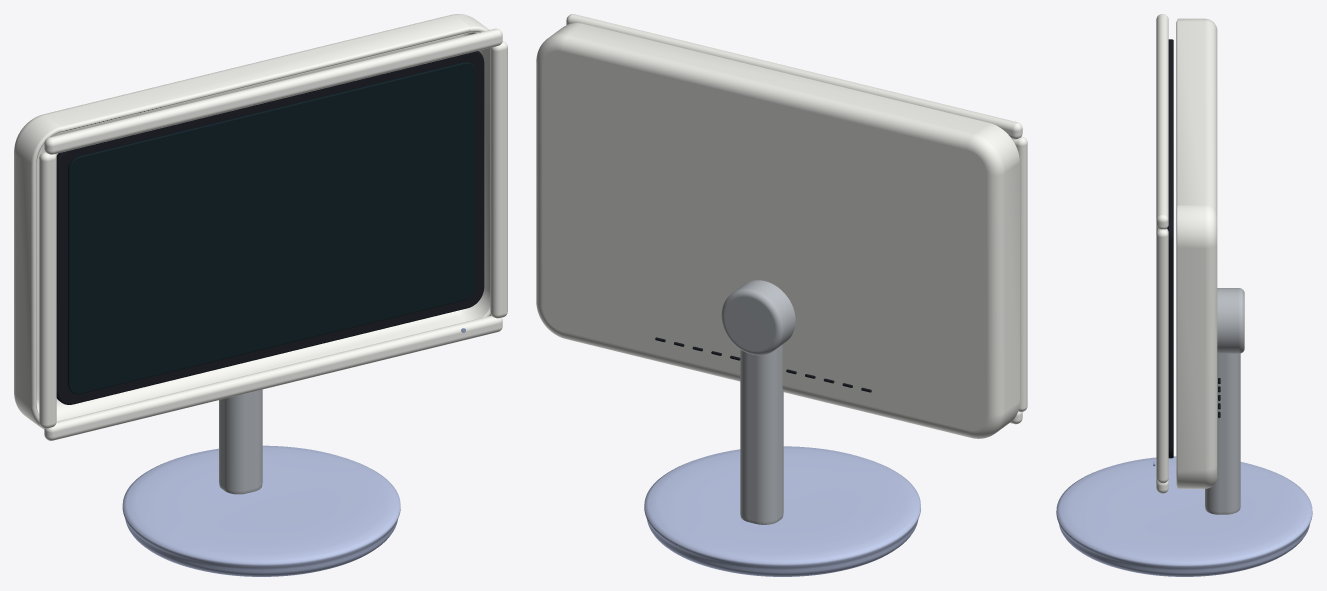
File: desktop-display.glb
3 renders of one model, left to right at view 1: azimuth 30°, elevation 25°; view 2: azimuth 150°, elevation 25°; view 3: azimuth 270°, elevation 25°, orthographic. The views are drawn at different scales.
Parts seen in each view (by area): view 1: fitted-rounded-panel (×2), sculpted-surface, hollow-rounded-housing, rear-display-enclosure-/-lcd-module-/-edge-frame-023, rear-display-enclosure-/-lcd-module-/-edge-frame-022, rear-display-enclosure-/-lcd-module-/-edge-frame-020, rear-display-enclosure-/-lcd-module-/-edge-frame-021, stand-and-hinge-003; view 2: hollow-rounded-housing, sculpted-surface, stand-and-hinge-003, stand-and-hinge-004, rear-display-enclosure-/-lcd-module-/-edge-frame-023, rear-display-enclosure-/-lcd-module-/-edge-frame-020; view 3: sculpted-surface, hollow-rounded-housing, stand-and-hinge-003, rear-display-enclosure-/-lcd-module-/-edge-frame-021, rear-display-enclosure-/-lcd-module-/-edge-frame-023, fitted-rounded-panel, stand-and-hinge-004.
Part boxes in pixels (box(x1,y1,x2,y2)): fitted-rounded-panel (×2): box(56, 51, 484, 404); sculpted-surface: box(122, 445, 400, 576); hollow-rounded-housing: box(14, 14, 491, 429); rear-display-enclosure-/-lcd-module-/-edge-frame-023: box(44, 28, 502, 154); rear-display-enclosure-/-lcd-module-/-edge-frame-022: box(44, 315, 502, 440); rear-display-enclosure-/-lcd-module-/-edge-frame-020: box(39, 152, 56, 428); rear-display-enclosure-/-lcd-module-/-edge-frame-021: box(490, 41, 507, 318); stand-and-hinge-003: box(219, 389, 262, 494); hollow-rounded-housing: box(536, 23, 1019, 438); sculpted-surface: box(644, 446, 920, 576); stand-and-hinge-003: box(740, 344, 783, 524); stand-and-hinge-004: box(721, 280, 795, 355); rear-display-enclosure-/-lcd-module-/-edge-frame-023: box(566, 14, 1022, 139); rear-display-enclosure-/-lcd-module-/-edge-frame-020: box(1012, 136, 1027, 411); sculpted-surface: box(1056, 456, 1312, 576); hollow-rounded-housing: box(1176, 18, 1217, 488); stand-and-hinge-003: box(1205, 353, 1240, 514); rear-display-enclosure-/-lcd-module-/-edge-frame-021: box(1156, 228, 1168, 483); rear-display-enclosure-/-lcd-module-/-edge-frame-023: box(1156, 14, 1168, 229); fitted-rounded-panel: box(1167, 39, 1173, 458); stand-and-hinge-004: box(1217, 288, 1244, 353).
Bounding box in the file's own units: 2 × 1.87 × 1.03.
